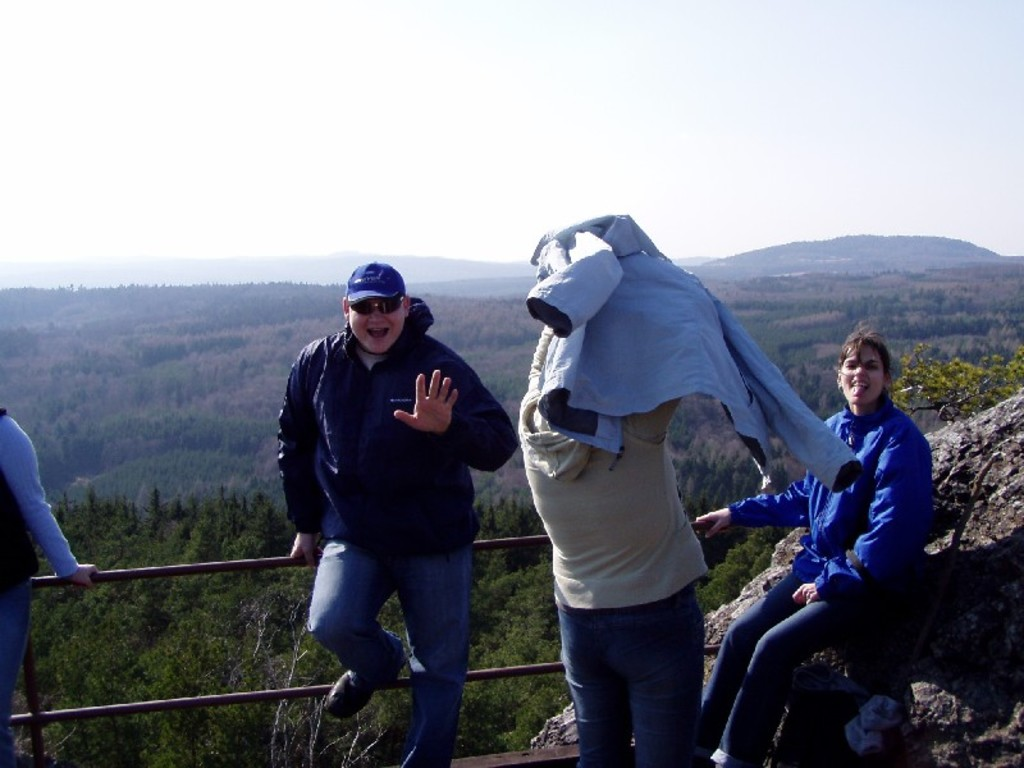Tree: (0, 276, 1022, 766), (144, 477, 166, 518)
